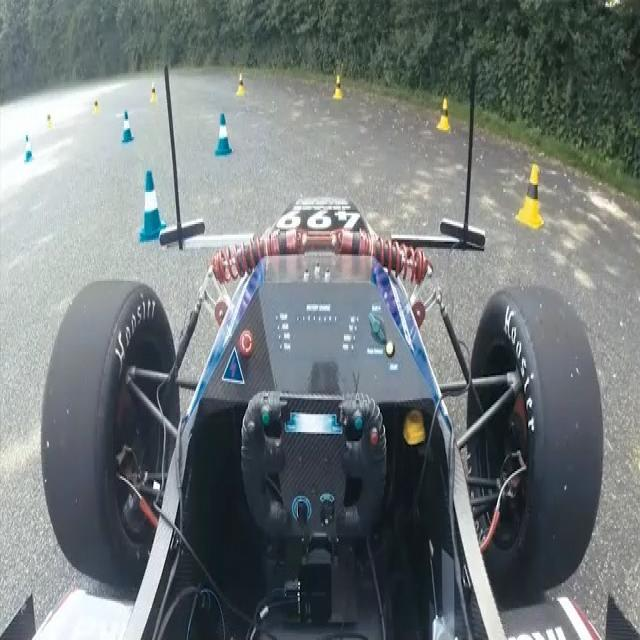blue_cone: (132, 167, 167, 244), (210, 110, 233, 156), (120, 109, 134, 142), (21, 132, 34, 164)
yellow_cone: (515, 154, 543, 229), (437, 91, 452, 138), (330, 71, 343, 100), (235, 70, 246, 100), (148, 84, 157, 104), (45, 110, 53, 132), (92, 98, 100, 117)
